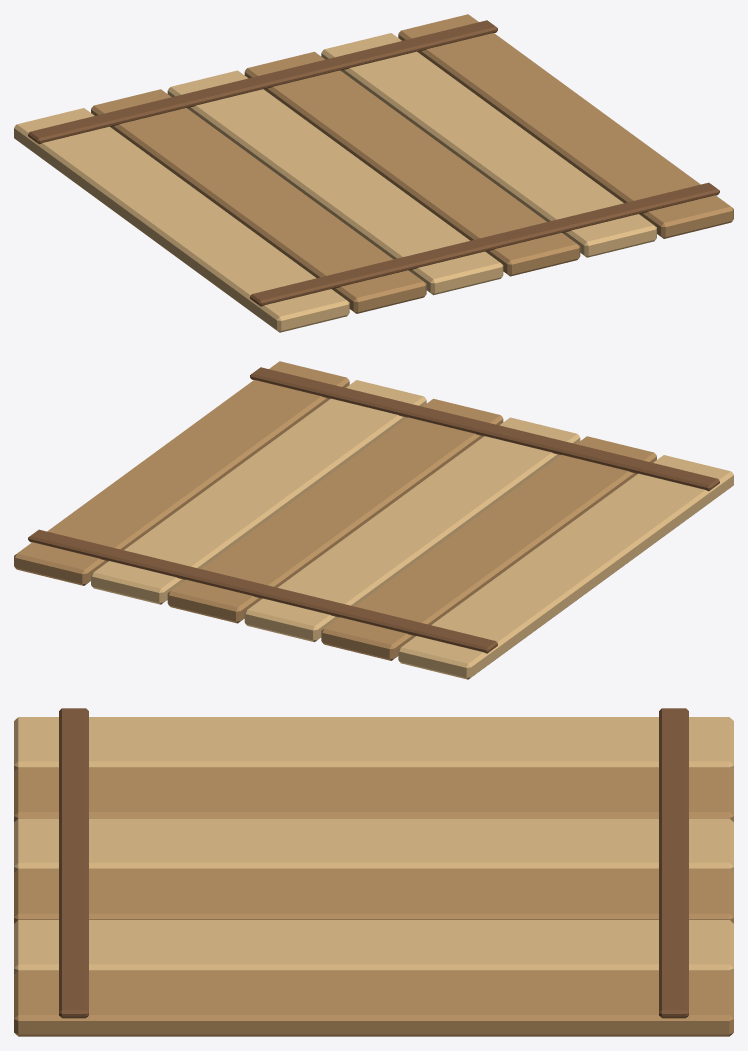
The model's file is CC_Floor.fbx.
The picture shows the model from 3 angles, top to bottom: view 1: azimuth 30°, elevation 25°; view 2: azimuth 150°, elevation 25°; view 3: azimuth 270°, elevation 25°; orthographic projection. The views are drawn at different scales.
Visible parts, largest first — view 1: Floor plank.007, Floor plank.009, Floor plank.010, Floor plank.008, Floor plank.012, Floor plank.011, Cross batten, Cross batten.001; view 2: Floor plank.007, Floor plank.009, Floor plank.010, Floor plank.008, Floor plank.012, Floor plank.011, Cross batten.001, Cross batten; view 3: Floor plank.012, Floor plank.008, Floor plank.011, Floor plank.007, Floor plank.010, Floor plank.009, Cross batten, Cross batten.001.
Part boxes in pixels (x1=…): Floor plank.007: x1=14, y1=108, x2=349, y2=332; Floor plank.009: x1=167, y1=70, x2=503, y2=295; Floor plank.010: x1=244, y1=51, x2=580, y2=276; Floor plank.008: x1=91, y1=89, x2=426, y2=313; Floor plank.012: x1=398, y1=14, x2=733, y2=238; Floor plank.011: x1=321, y1=33, x2=656, y2=257; Cross batten: x1=250, y1=182, x2=719, y2=306; Cross batten.001: x1=28, y1=20, x2=497, y2=144; Floor plank.007: x1=398, y1=455, x2=733, y2=679; Floor plank.009: x1=244, y1=417, x2=580, y2=642; Floor plank.010: x1=167, y1=398, x2=503, y2=623; Floor plank.008: x1=321, y1=436, x2=656, y2=660; Floor plank.012: x1=14, y1=361, x2=349, y2=585; Floor plank.011: x1=91, y1=380, x2=426, y2=604; Cross batten.001: x1=28, y1=529, x2=497, y2=653; Cross batten: x1=250, y1=367, x2=719, y2=491; Floor plank.012: x1=14, y1=970, x2=733, y2=1036; Floor plank.008: x1=14, y1=767, x2=733, y2=821; Floor plank.011: x1=14, y1=920, x2=733, y2=974; Floor plank.007: x1=14, y1=717, x2=733, y2=771; Floor plank.010: x1=14, y1=869, x2=733, y2=923; Floor plank.009: x1=14, y1=818, x2=733, y2=872; Cross batten: x1=59, y1=708, x2=88, y2=1018; Cross batten.001: x1=659, y1=708, x2=688, y2=1018.
Size of the model in its own units: 2.4 by 0.105 by 2.4.
